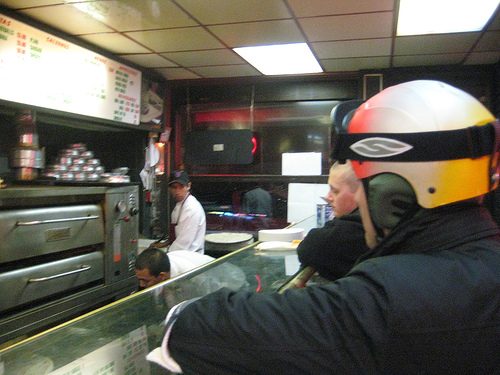helmet: (324, 86, 496, 205)
